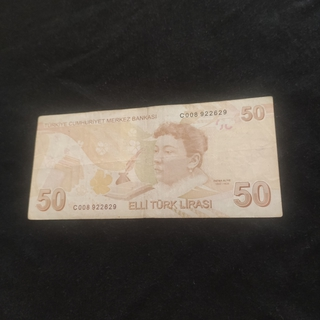50TLBack: (26, 95, 283, 220)
